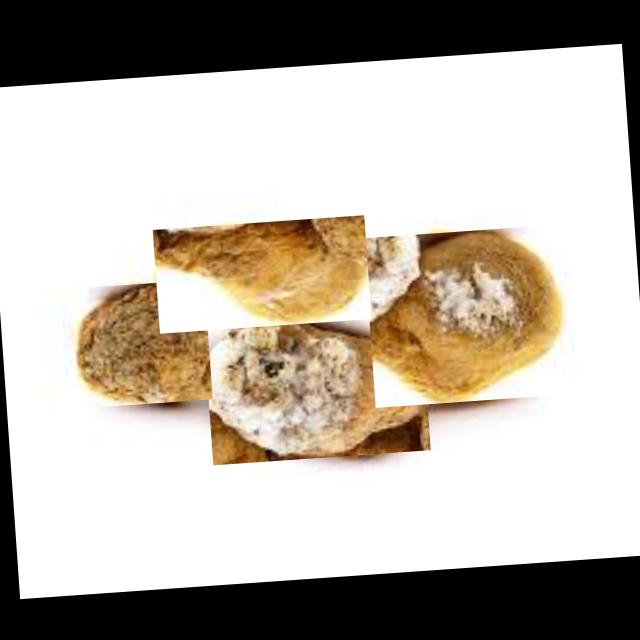Damaged potato: (69, 278, 211, 407)
Diseased-fungal potato: (362, 224, 562, 406), (202, 305, 430, 464), (151, 214, 370, 332)
